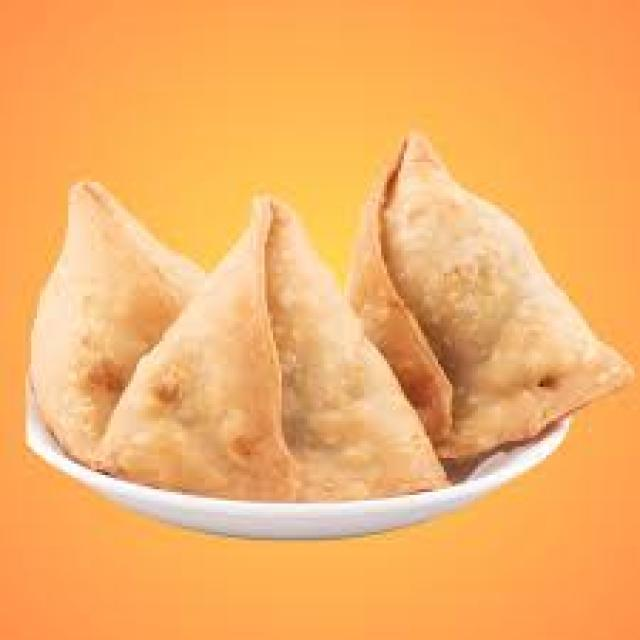SAMOSA: (91, 200, 448, 509), (342, 134, 635, 462), (33, 183, 211, 464)
